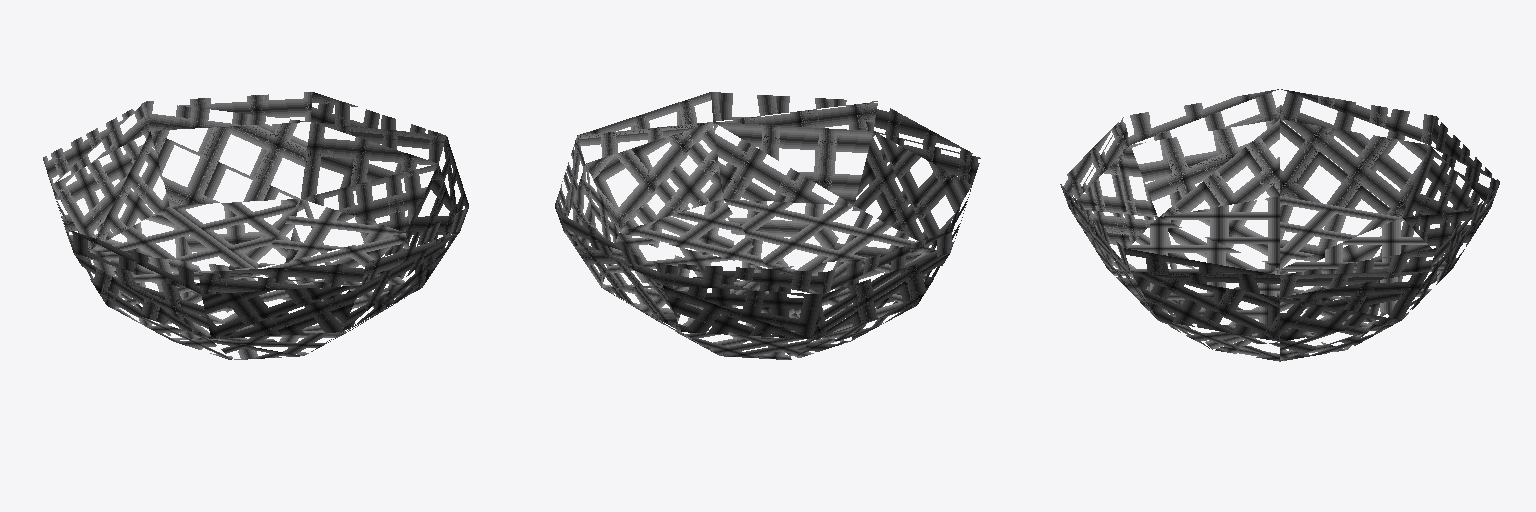
3 renders of one model, left to right at view 1: azimuth 30°, elevation 25°; view 2: azimuth 150°, elevation 25°; view 3: azimuth 270°, elevation 25°, orthographic.
Visible parts, largest first — view 1: bowl; view 2: bowl; view 3: bowl.
Boxes of the visible parts, box(x1,y1,x2,y2) form: bowl: box(43, 92, 468, 359); bowl: box(555, 92, 980, 359); bowl: box(1060, 89, 1499, 361).
Size of the model in its own units: 2.3 by 0.85 by 2.3.
1 materials, 1 textured.